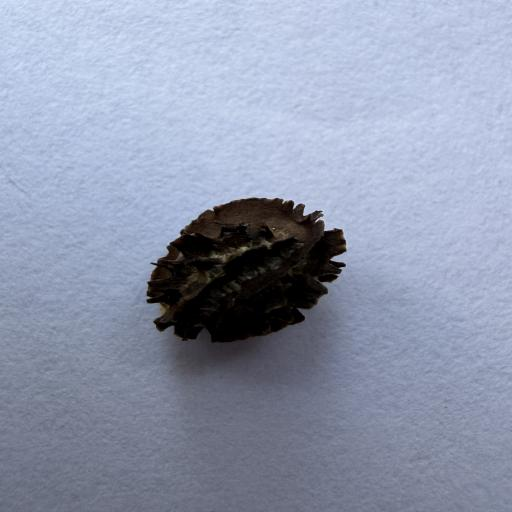papaya_seed: (140, 180, 367, 370)
